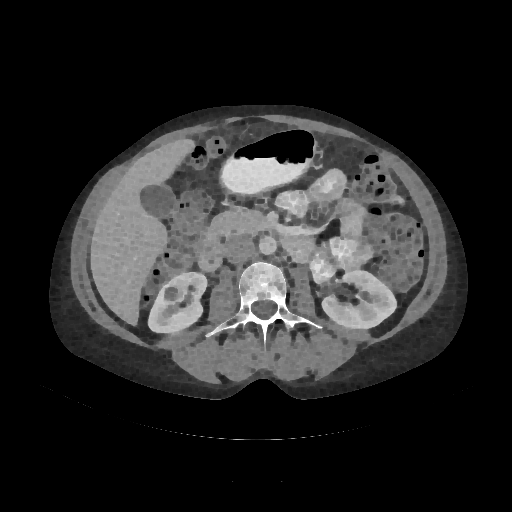Lesion: (163, 284, 184, 303)
